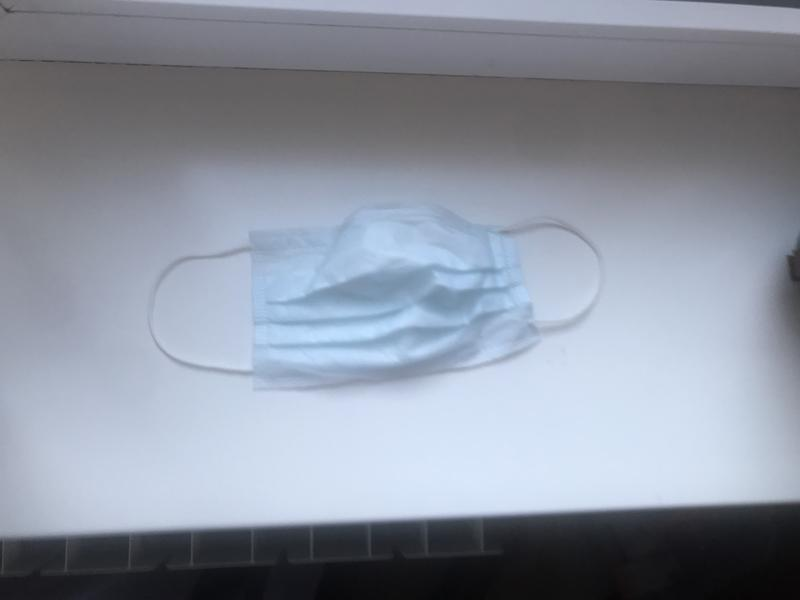medical_mask: (151, 203, 607, 387)
